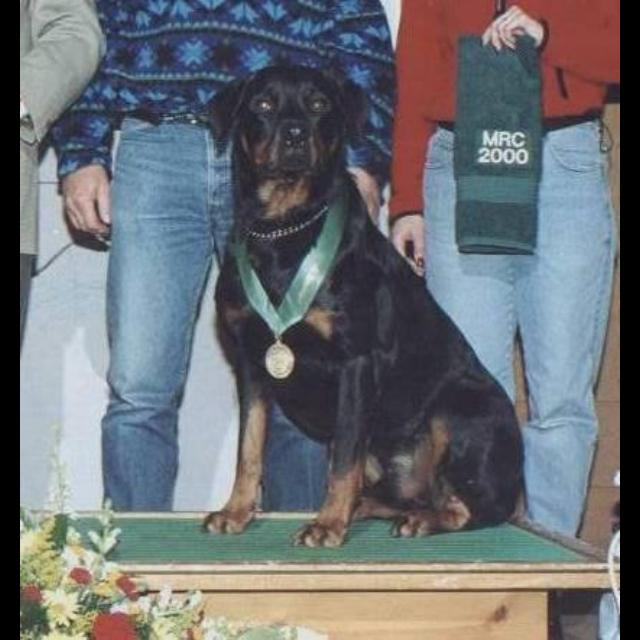person: (51, 2, 398, 513), (394, 1, 621, 545), (21, 2, 107, 517)
rottweiler: (202, 65, 527, 550)
